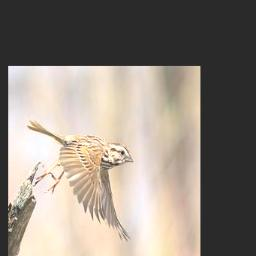Sparrow: (23, 110, 133, 244)
